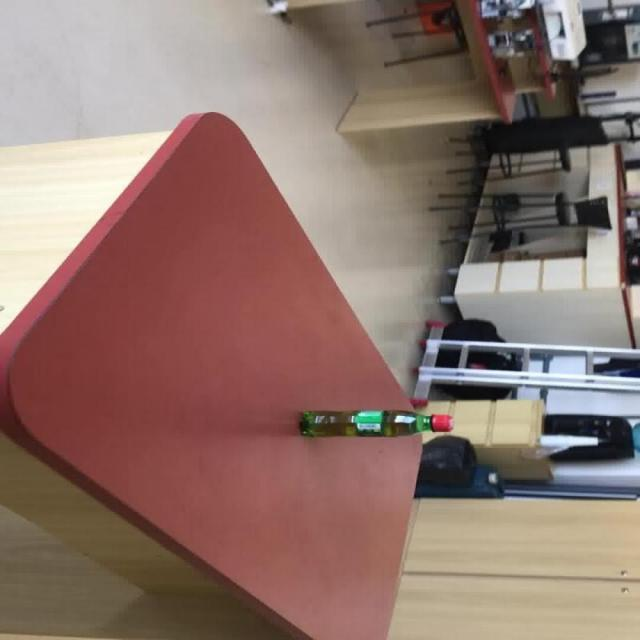Guarana: (297, 408, 453, 438)
